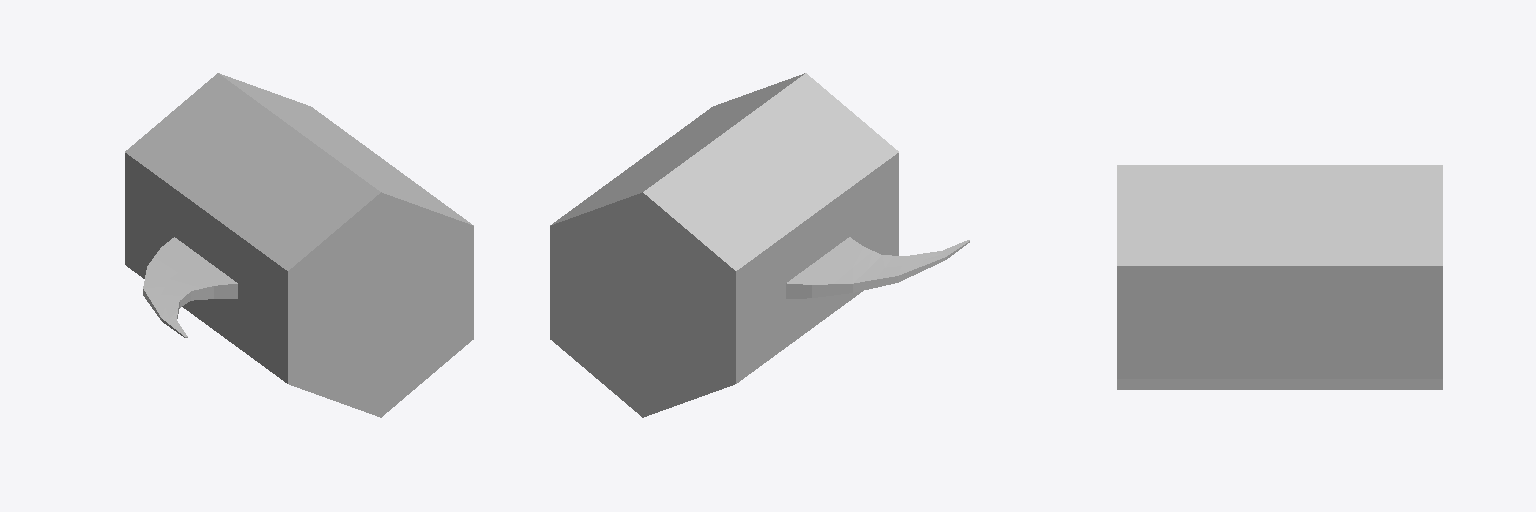
Rendered from vine-whip-segment-thorn.obj.
The picture shows the model from 3 angles: view 1: azimuth 30°, elevation 25°; view 2: azimuth 150°, elevation 25°; view 3: azimuth 270°, elevation 25°; orthographic projection.
Visible parts, largest first — view 1: Whip.Segment.Thorn.001; view 2: Whip.Segment.Thorn.001; view 3: Whip.Segment.Thorn.001.
Part boxes in pixels (left/top/right/bottom): Whip.Segment.Thorn.001: left=125, top=73, right=473, bottom=417; Whip.Segment.Thorn.001: left=550, top=73, right=969, bottom=417; Whip.Segment.Thorn.001: left=1117, top=165, right=1442, bottom=389.
Bounding box in the file's own units: 0.0889 × 0.07 × 0.0918.